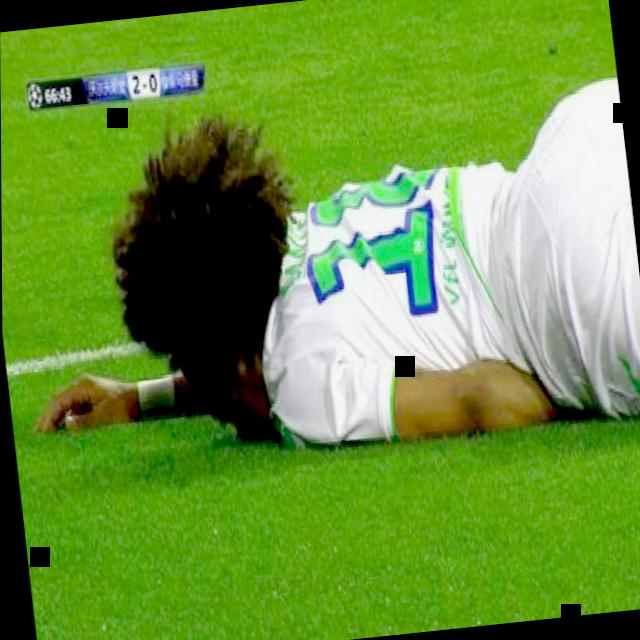Fall-Detected: (0, 54, 640, 499)
